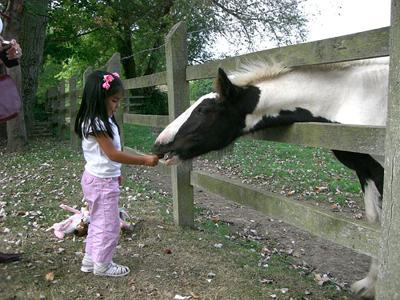person: (77, 70, 160, 275)
